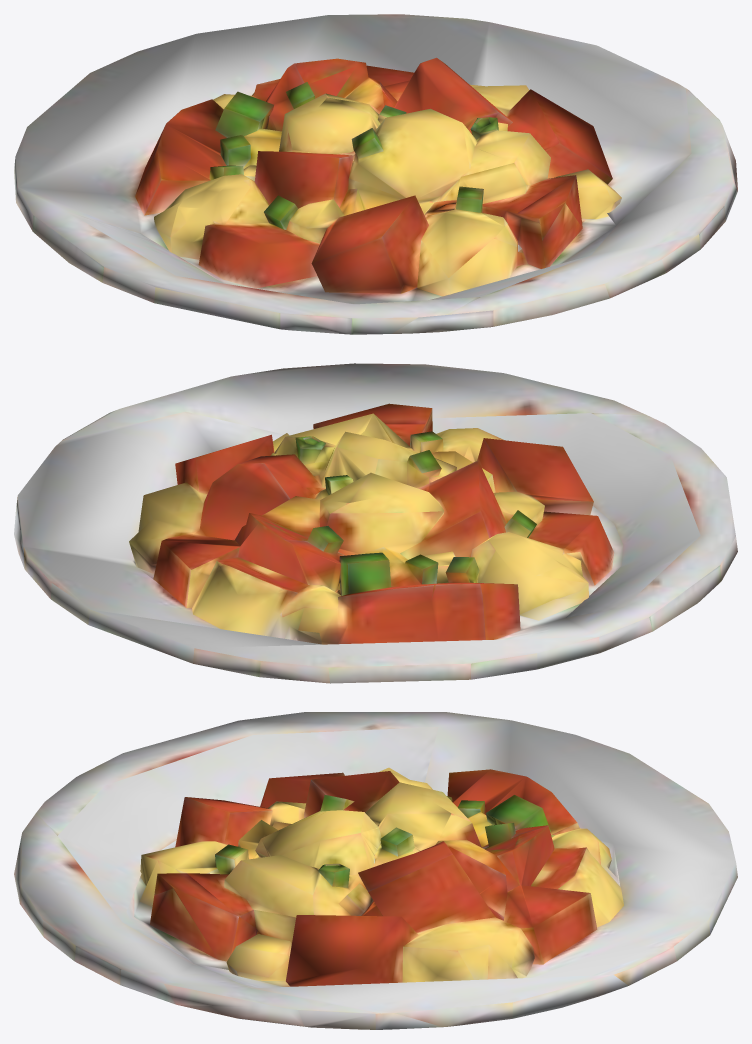
Rendered from g_xihongshichaodan.glb.
3 renders of one model, top to bottom at view 1: azimuth 30°, elevation 25°; view 2: azimuth 150°, elevation 25°; view 3: azimuth 270°, elevation 25°, orthographic.
Visible parts, largest first — view 1: node_0; view 2: node_0; view 3: node_0.
Part boxes in pixels (left/top/right/bottom): node_0: left=14, top=14, right=737, bottom=334; node_0: left=14, top=363, right=737, bottom=683; node_0: left=14, top=712, right=737, bottom=1029.
Size of the model in its own units: 1.2 by 0.2335 by 1.2.
1 material, 1 textured.
